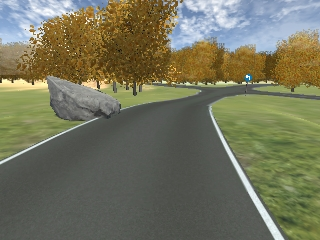left: (244, 74, 250, 82)
